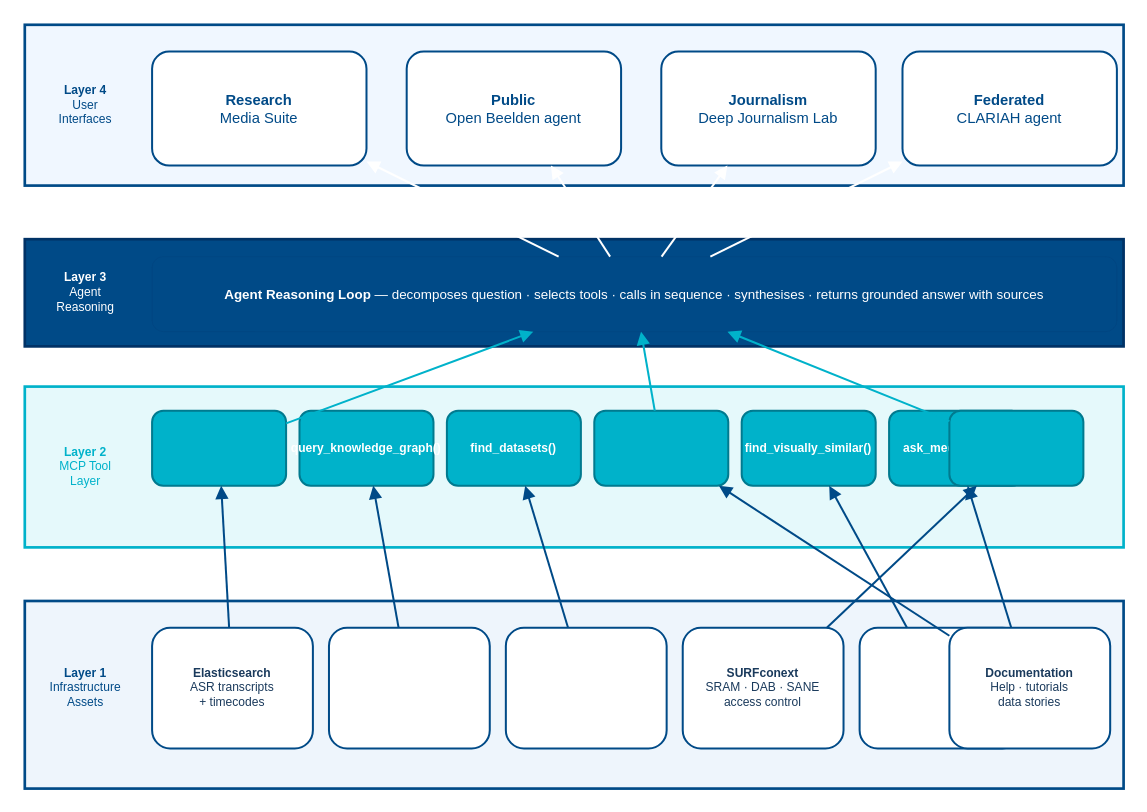
This 1147x812 diagram has some shape labels left out. Here are the shapes that lost their labels. From the top down, the centre of each, then its label:
At point (218, 447): "search_archive()".
At point (661, 447): "semantic_search()".
At point (1016, 447): "check_access()".
At point (408, 687): "SPARQL endpoint linked data data.beeldengeluid.nl".
At point (585, 687): "NDE Dataset Register national catalogue".
At point (939, 687): "VisXP visual similarity embeddings".
